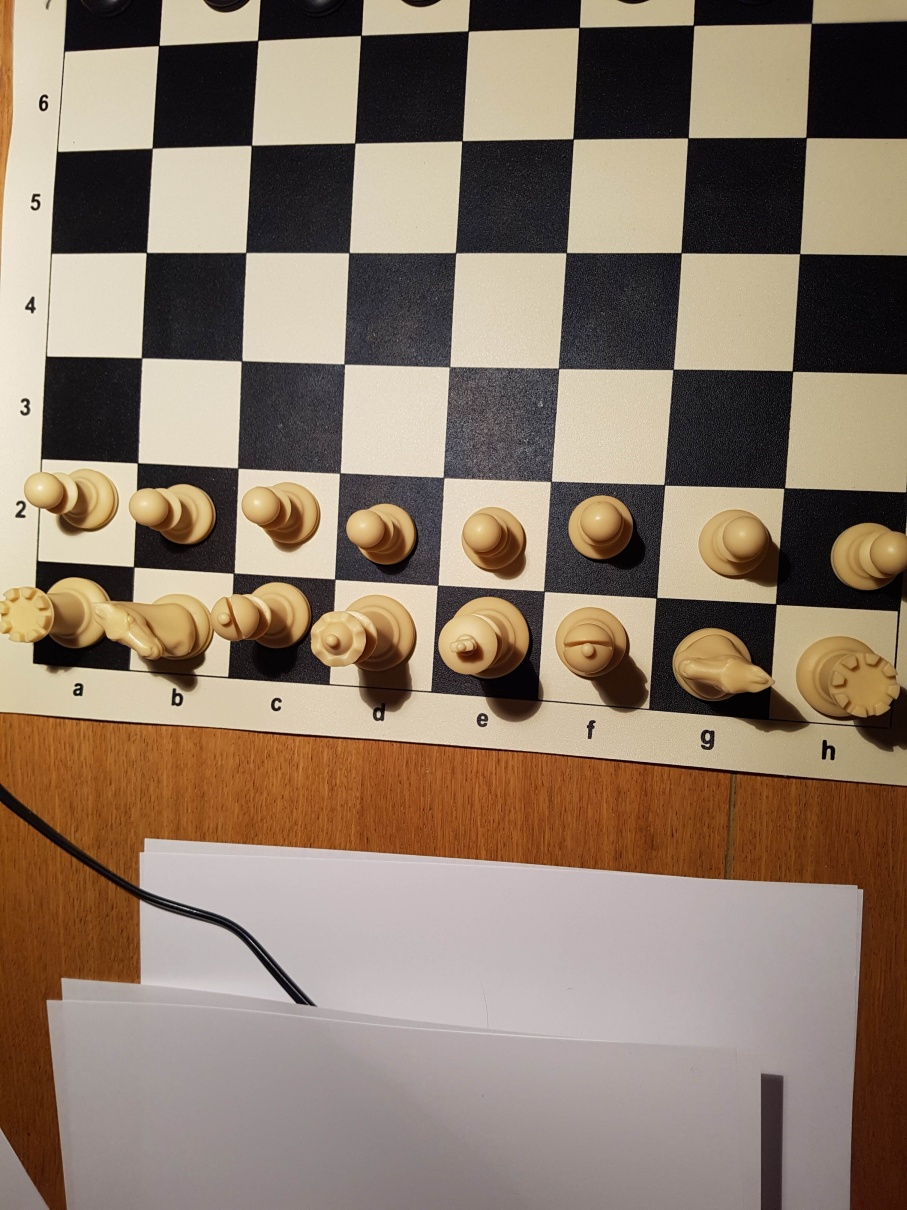chess_bishop: (215, 582, 310, 648), (555, 606, 633, 677)
chess_king: (439, 594, 534, 686)
chess_knight: (99, 593, 210, 666), (670, 627, 769, 707)
chess_pawn: (21, 463, 121, 534), (127, 481, 219, 545), (238, 481, 322, 546), (699, 507, 772, 576), (344, 501, 421, 566), (461, 506, 529, 576), (567, 493, 637, 560), (833, 524, 907, 585)
chess_queen: (307, 594, 420, 674)
chess_rook: (796, 636, 899, 721), (2, 575, 103, 652)
